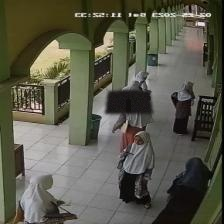Cadar_Niqab: (105, 79, 152, 113)
